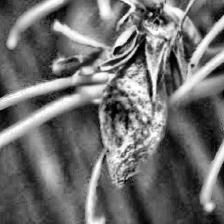Gray Mold: (76, 0, 186, 189)
